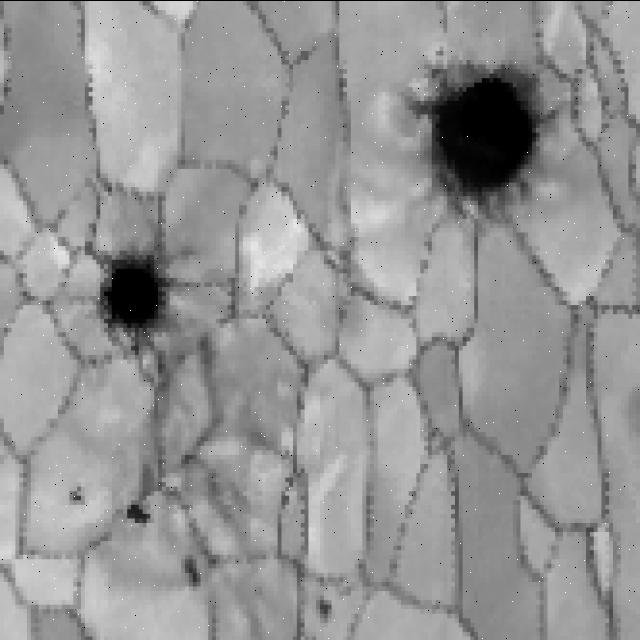good_void: (428, 51, 560, 219), (90, 242, 183, 353), (172, 551, 217, 591), (58, 482, 102, 514), (309, 591, 340, 629), (111, 503, 159, 526), (179, 450, 211, 472)
